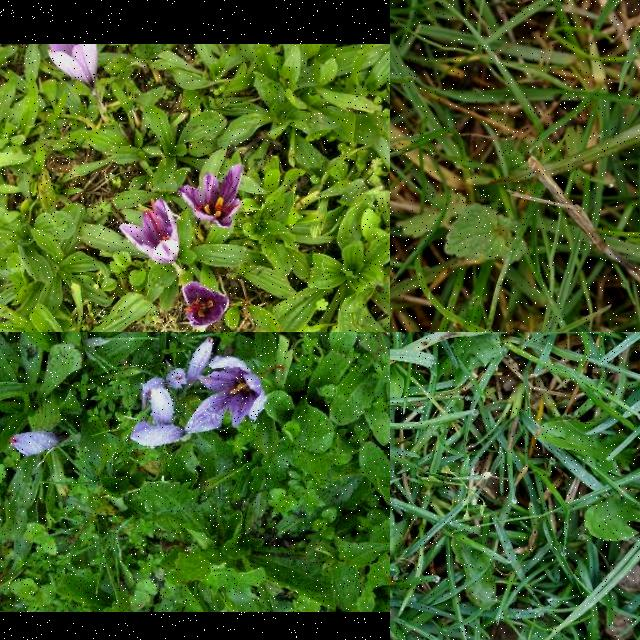flower: (186, 356, 268, 432), (178, 165, 242, 229), (120, 199, 180, 267), (181, 284, 229, 330), (48, 44, 98, 86), (130, 421, 186, 447), (186, 337, 214, 389), (9, 430, 58, 458), (150, 387, 174, 425), (167, 368, 187, 389)
